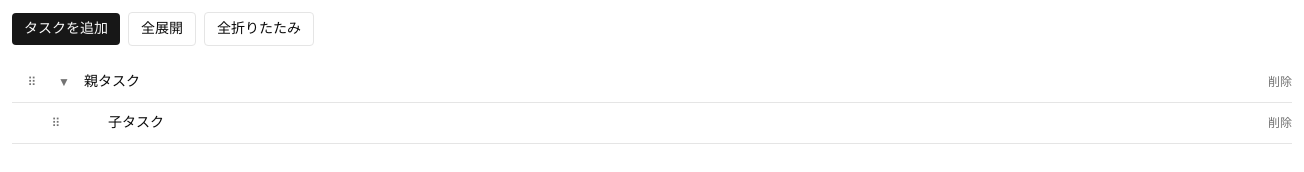
Scenario: TaskTreeTable › 折りたたみ・展開（AC 4） › TaskTreeTable_子タスクを持つ親の折りたたみアイコンをクリックしたとき_子タスクが非表示になる
Expected: the text "子タスク" is shown, [108,115,164,130]
Click the button named "折りたたむ".
click(64, 82)  # box [52,70,76,94]
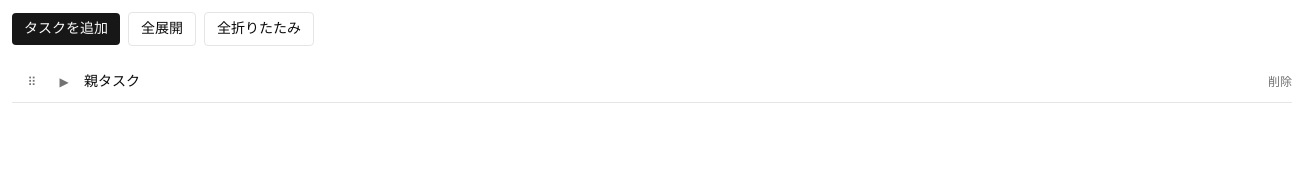
Now the text "子タスク" is gone
